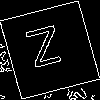Z: (24, 25, 67, 78)
